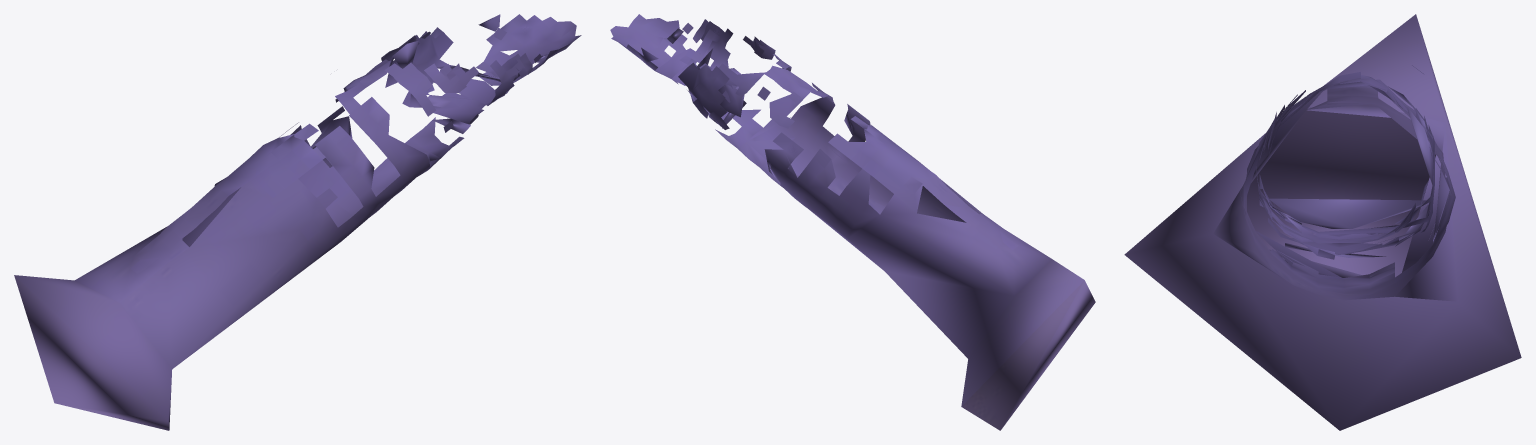
File: model.progressive.glb
3 views of the same model, side by side, from view 1: azimuth 30°, elevation 25°; view 2: azimuth 150°, elevation 25°; view 3: azimuth 270°, elevation 25° (orthographic). The views are drawn at different scales.
Parts seen in each view (by area): view 1: texture_pbr_20250901; view 2: texture_pbr_20250901; view 3: texture_pbr_20250901.
Boxes of the visible parts, box(x1,y1,x2,y2) form: texture_pbr_20250901: box(14, 14, 581, 430); texture_pbr_20250901: box(610, 14, 1095, 430); texture_pbr_20250901: box(1124, 14, 1521, 430).
Bounding box in the file's own units: 0.5059 × 0.2812 × 0.1836.
1 material, 1 textured.
